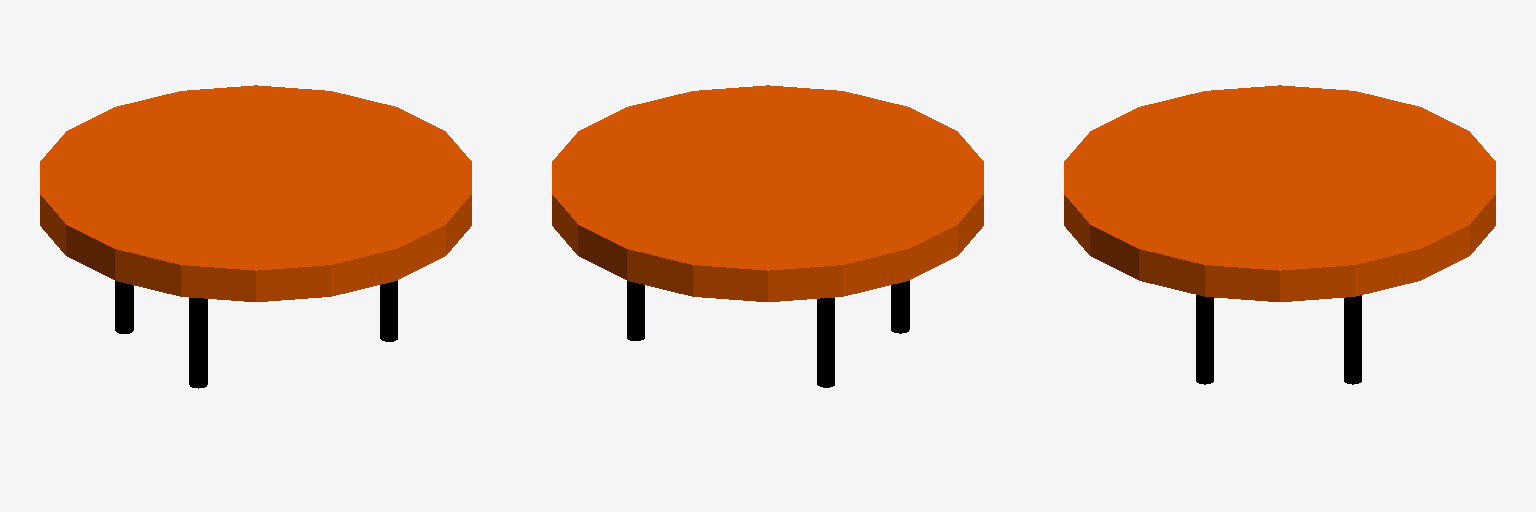
The model's file is table.obj.
The picture shows the model from 3 angles: view 1: azimuth 30°, elevation 25°; view 2: azimuth 150°, elevation 25°; view 3: azimuth 270°, elevation 25°; orthographic projection.
Visible parts, largest first — view 1: Cylinder001, Cylinder004, Cylinder006, Cylinder003; view 2: Cylinder001, Cylinder003, Cylinder005, Cylinder004; view 3: Cylinder001, Cylinder006, Cylinder005.
Part boxes in pixels (bbox=[...]): Cylinder001: bbox=[40, 85, 471, 301]; Cylinder004: bbox=[189, 297, 207, 388]; Cylinder006: bbox=[380, 280, 397, 341]; Cylinder003: bbox=[115, 281, 133, 333]; Cylinder001: bbox=[552, 85, 983, 301]; Cylinder003: bbox=[817, 297, 834, 387]; Cylinder005: bbox=[627, 281, 644, 340]; Cylinder004: bbox=[891, 280, 909, 333]; Cylinder001: bbox=[1064, 85, 1495, 301]; Cylinder006: bbox=[1196, 295, 1213, 384]; Cylinder005: bbox=[1344, 295, 1361, 384].
Bounding box in the file's own units: 22.06 × 8.66 × 21.72.